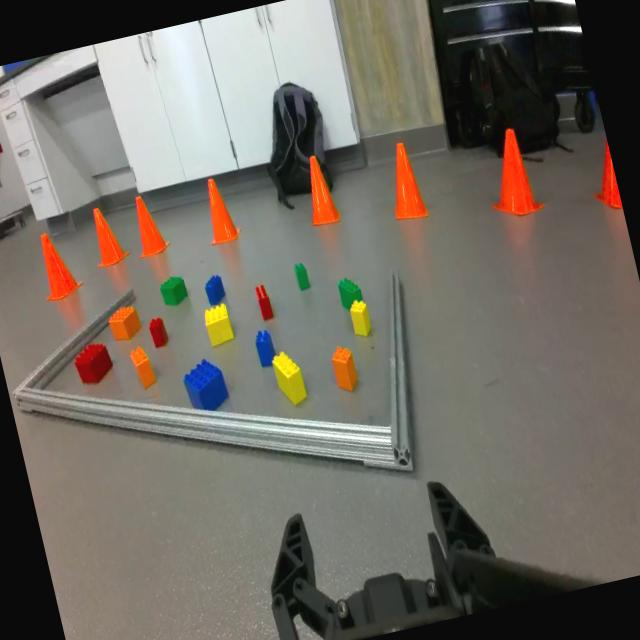block: (267, 341, 311, 410), (200, 298, 238, 349), (345, 292, 377, 342)
blue: (179, 352, 234, 417), (252, 326, 280, 371), (202, 270, 228, 306)
cone: (472, 116, 548, 228), (378, 138, 431, 226), (30, 226, 86, 306), (197, 170, 246, 250), (296, 152, 344, 230), (126, 191, 174, 265), (84, 202, 133, 272)
green: (154, 270, 192, 310), (334, 273, 368, 308), (292, 256, 314, 296)
metal barrier: (12, 265, 413, 469)
orange: (326, 339, 363, 399), (104, 298, 146, 347), (128, 346, 159, 394)
red goal: (70, 336, 118, 392), (253, 280, 275, 322), (148, 313, 171, 349)
